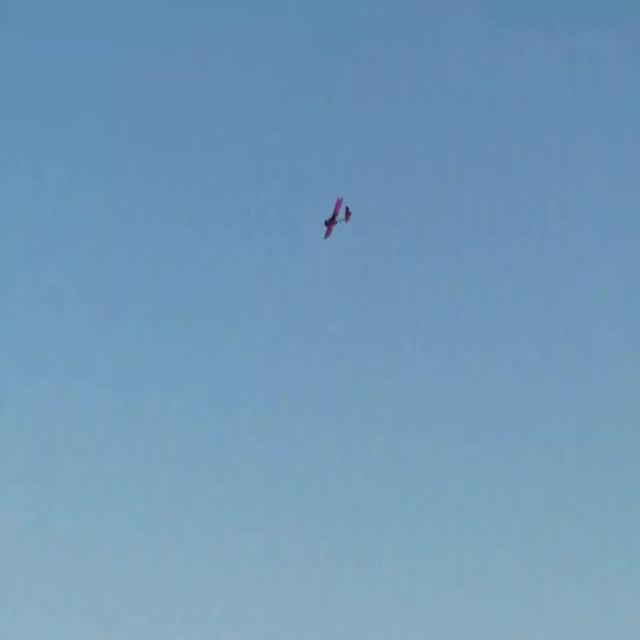iha: (323, 195, 352, 241)
